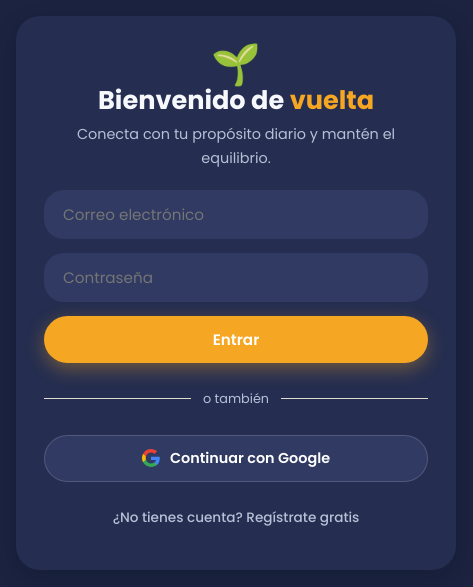
Test case: LoginForm › alterna entre login y registro
Expected: the heading "Bienvenido de vuelta" is shown, [98,82,374,118]
Expected: the button "Entrar" is shown, [44,316,428,363]
Click the button "¿No tienes cuenta? Regístrate gratis".
click(236, 518)  # box [44,502,428,534]
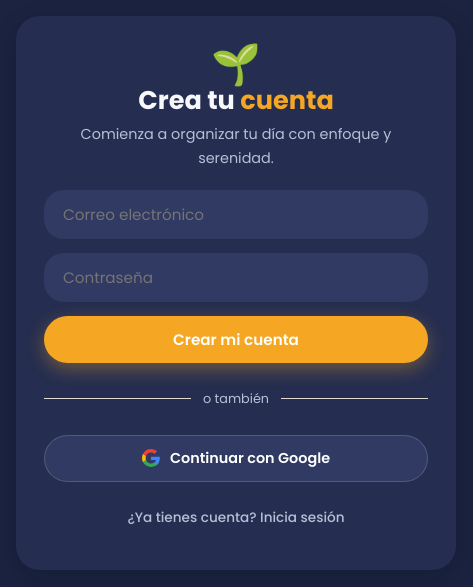
Now the heading "Crea tu cuenta" is shown, box [138,82,334,118]
Now the button "Crear mi cuenta" is shown, box [44,316,428,363]
